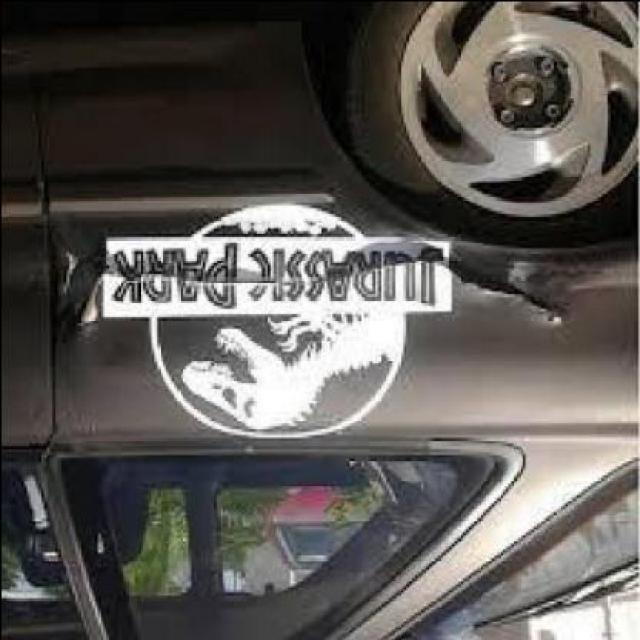damage: (44, 236, 580, 342)
